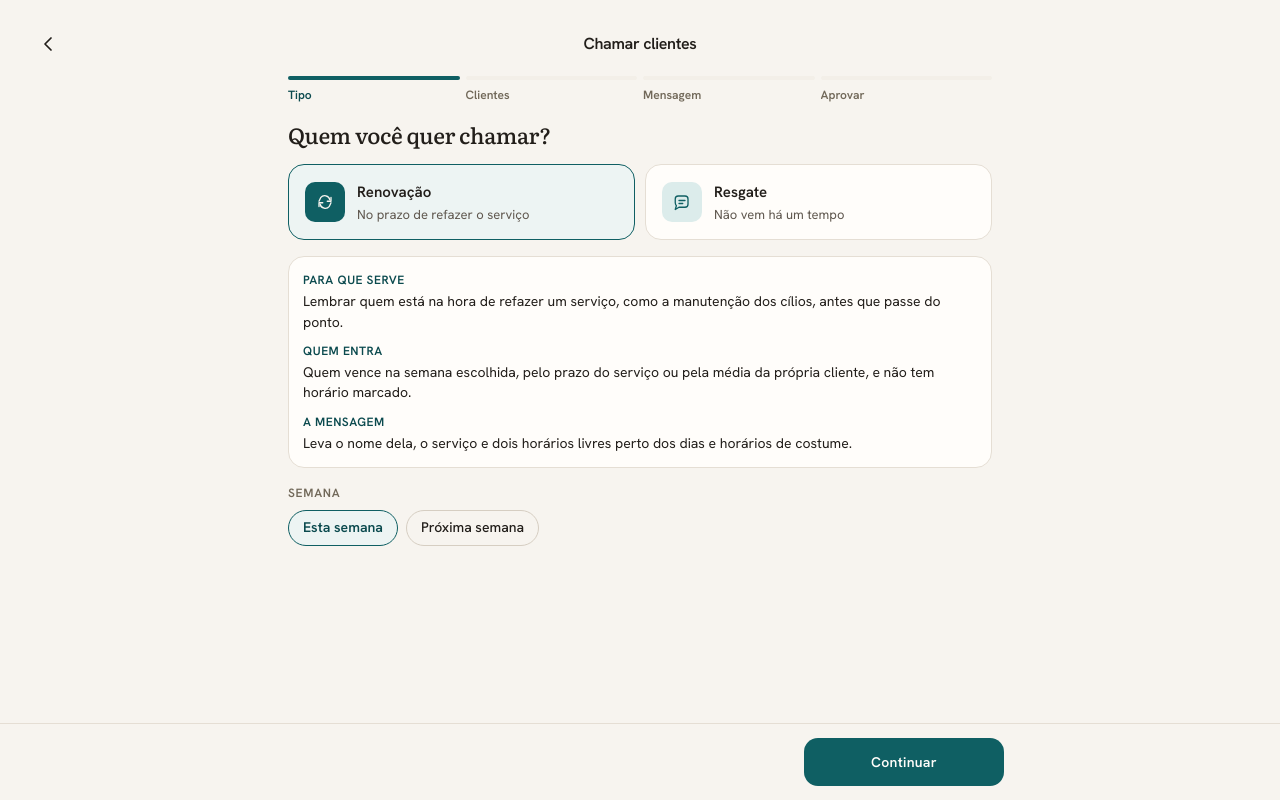
Test: Retorno de clientes › Renovação › lista vazia e erro com tentar de novo
This screenshot has width=1280, height=800.
Expected: the heading "Quem você quer chamar?" is shown, [288, 122, 551, 148]
Click the button "Continuar". click: (904, 762)
box: [804, 738, 1004, 786]
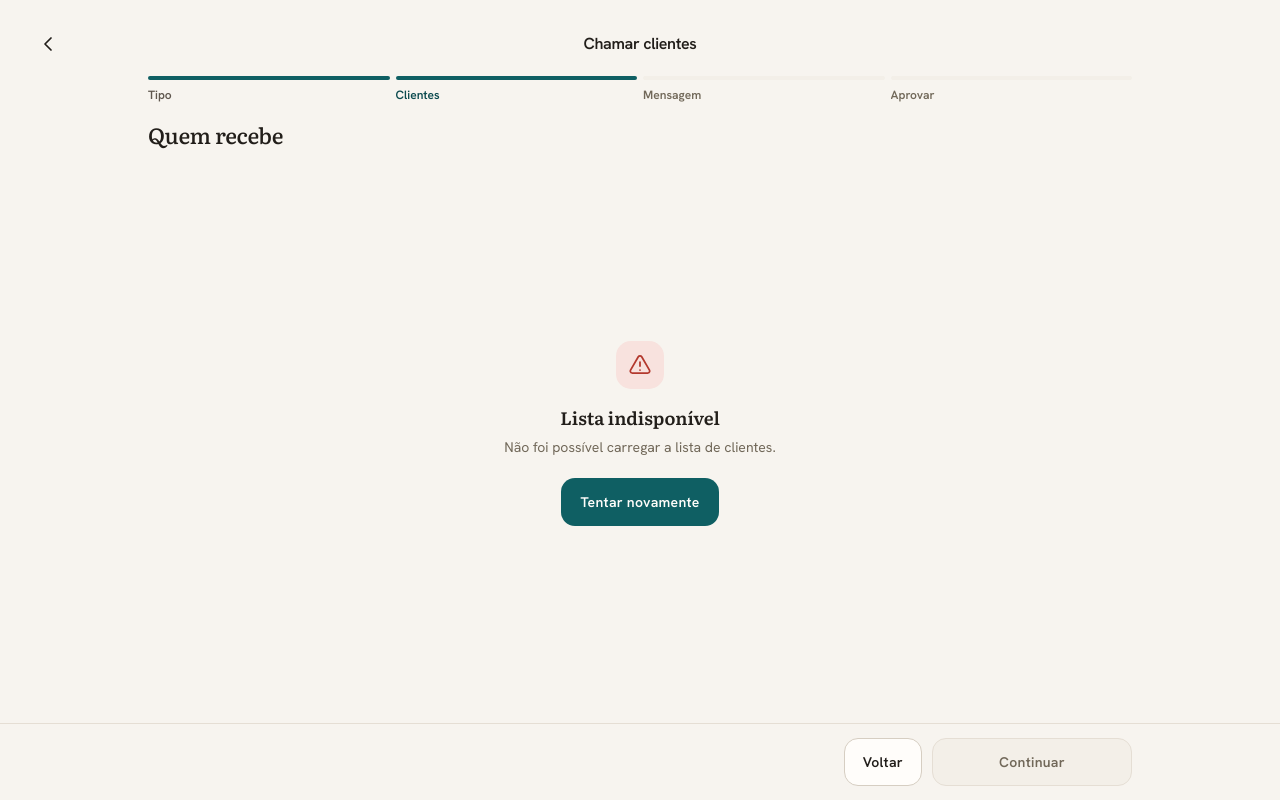
Now the text "Não foi possível carregar a lista de clientes." is shown, box [504, 437, 776, 458]
Now the button "Continuar" is disabled, box [932, 738, 1132, 786]
Click the button "Tentar novamente". click: (640, 502)
box: [561, 478, 719, 526]
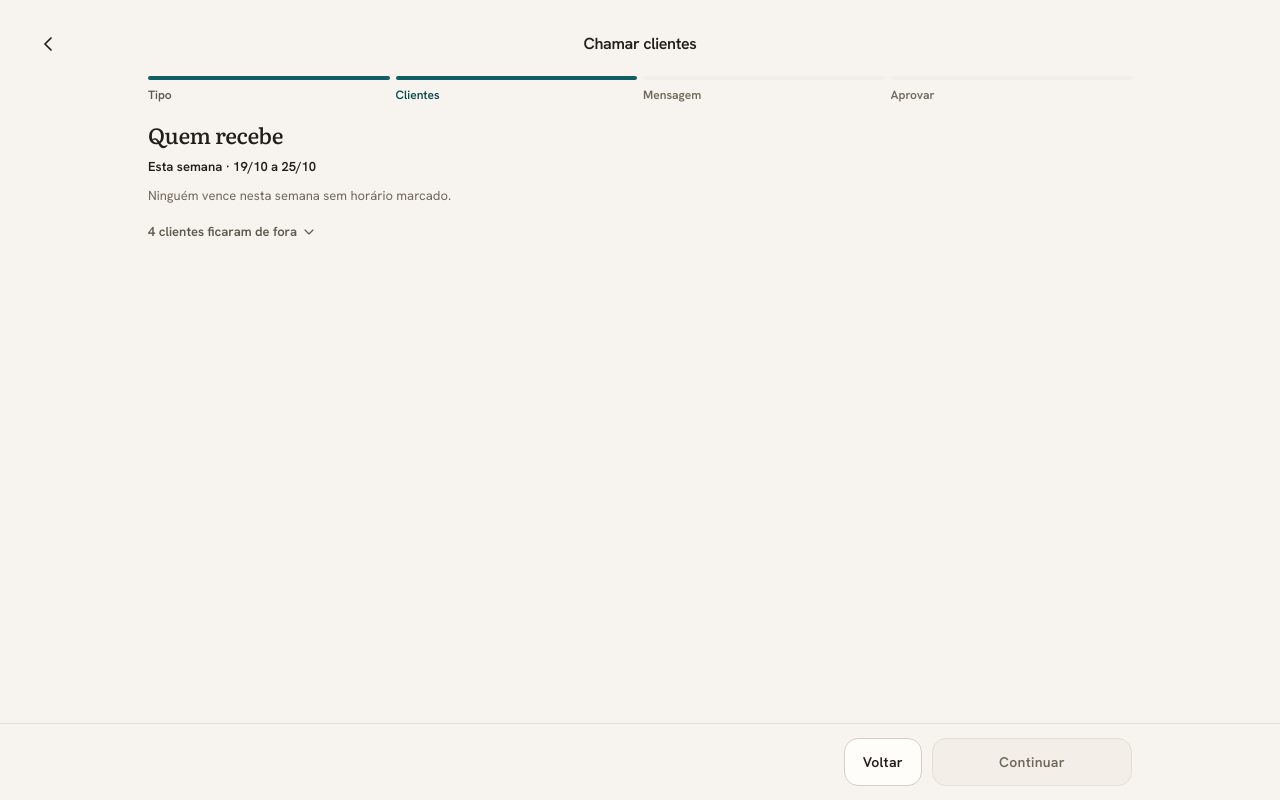
Now the button "Continuar" is disabled, box [932, 738, 1132, 786]
Now the text "Ninguém vence nesta semana sem horário marcado." is shown, box [148, 187, 451, 204]
